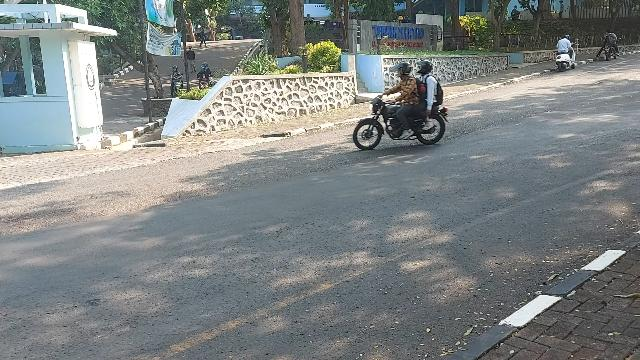helm: (391, 63, 412, 78), (417, 61, 434, 75)
motor: (354, 97, 450, 152)
